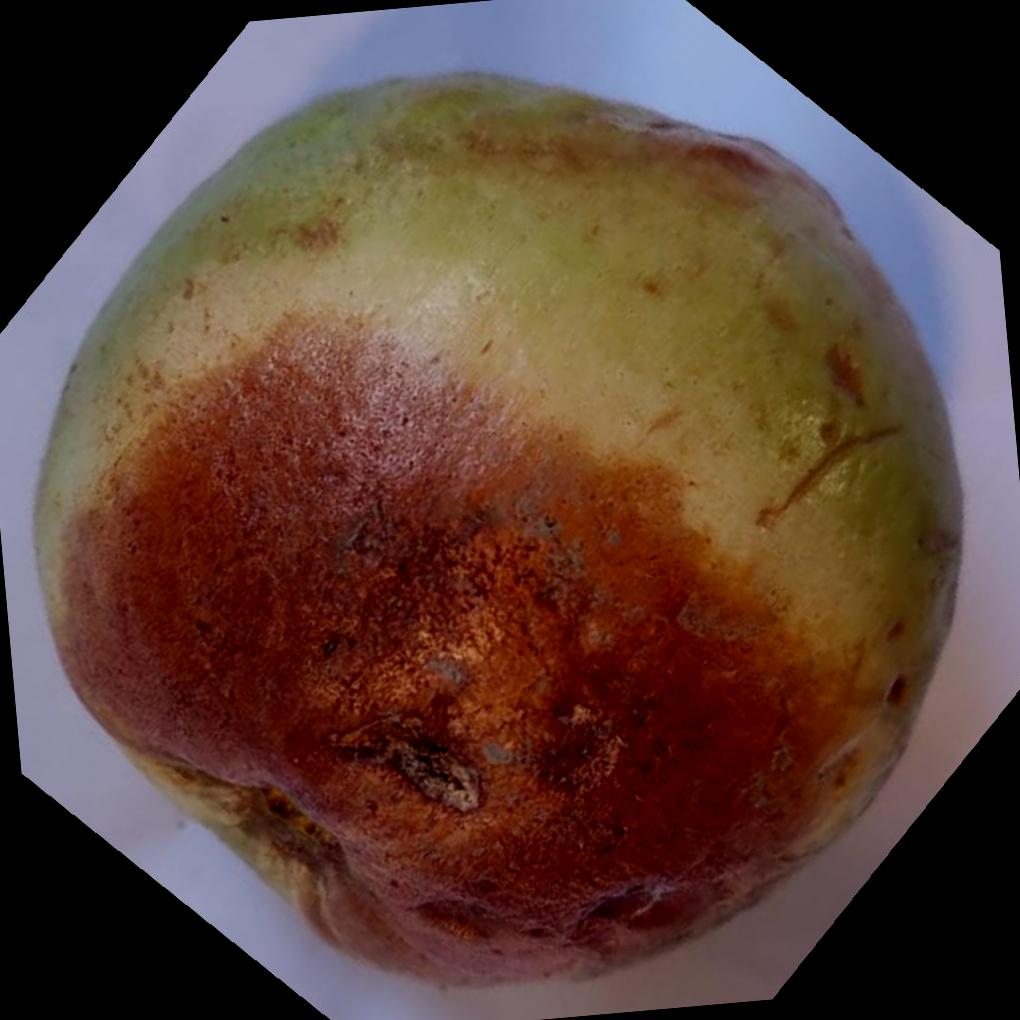FreshOrange: (29, 73, 967, 993)
